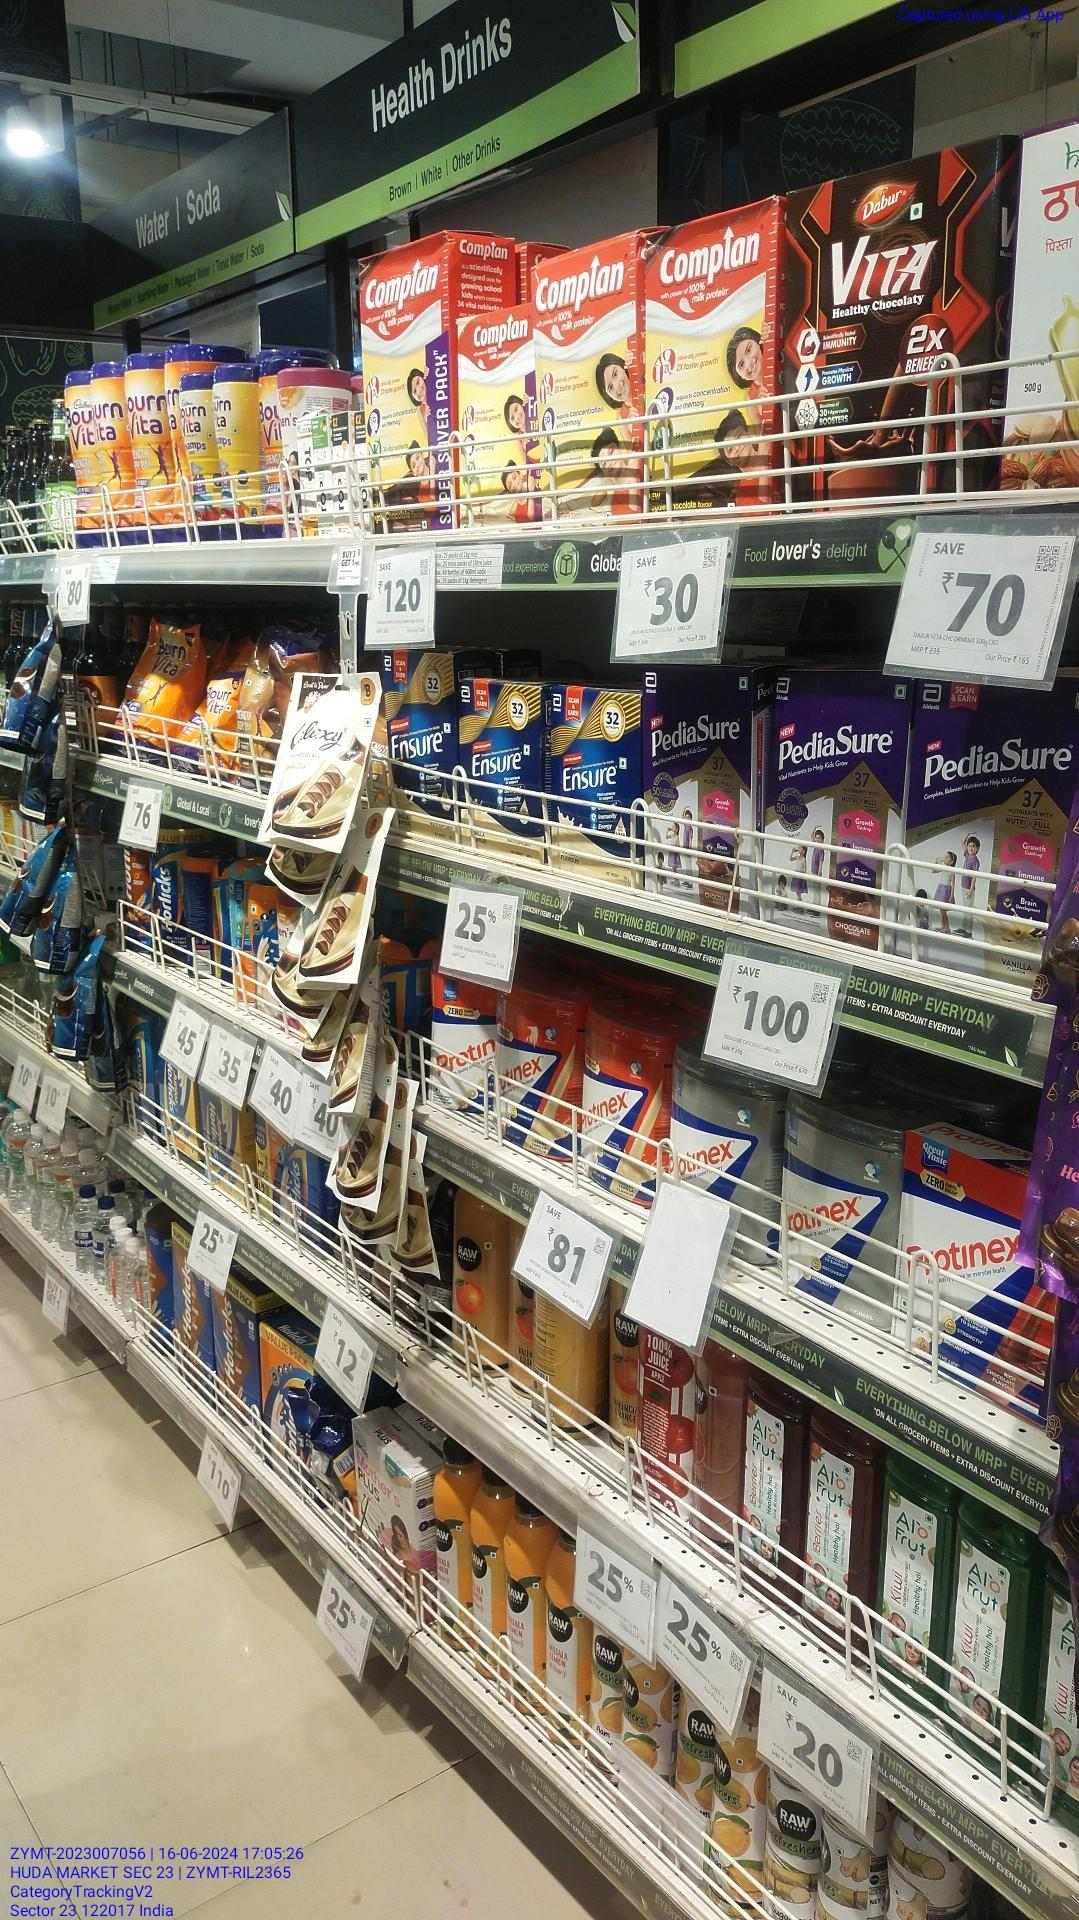ENSURE_VANILLA_400_G_PACK: (546, 687, 642, 880), (460, 680, 543, 852)
PEDIASURE_CHOCOLATE_500_G_PACK: (762, 670, 901, 944), (648, 666, 752, 902)
PEDIASURE_VANILLA_500_G_PACK: (909, 687, 1058, 982)
PROTINEX_ORIGINAL_400_G_JAR: (786, 1092, 894, 1317), (671, 1056, 777, 1221)
PROTINEX_VANILLA_400_G_JAR: (584, 1009, 665, 1199), (495, 978, 572, 1155)
